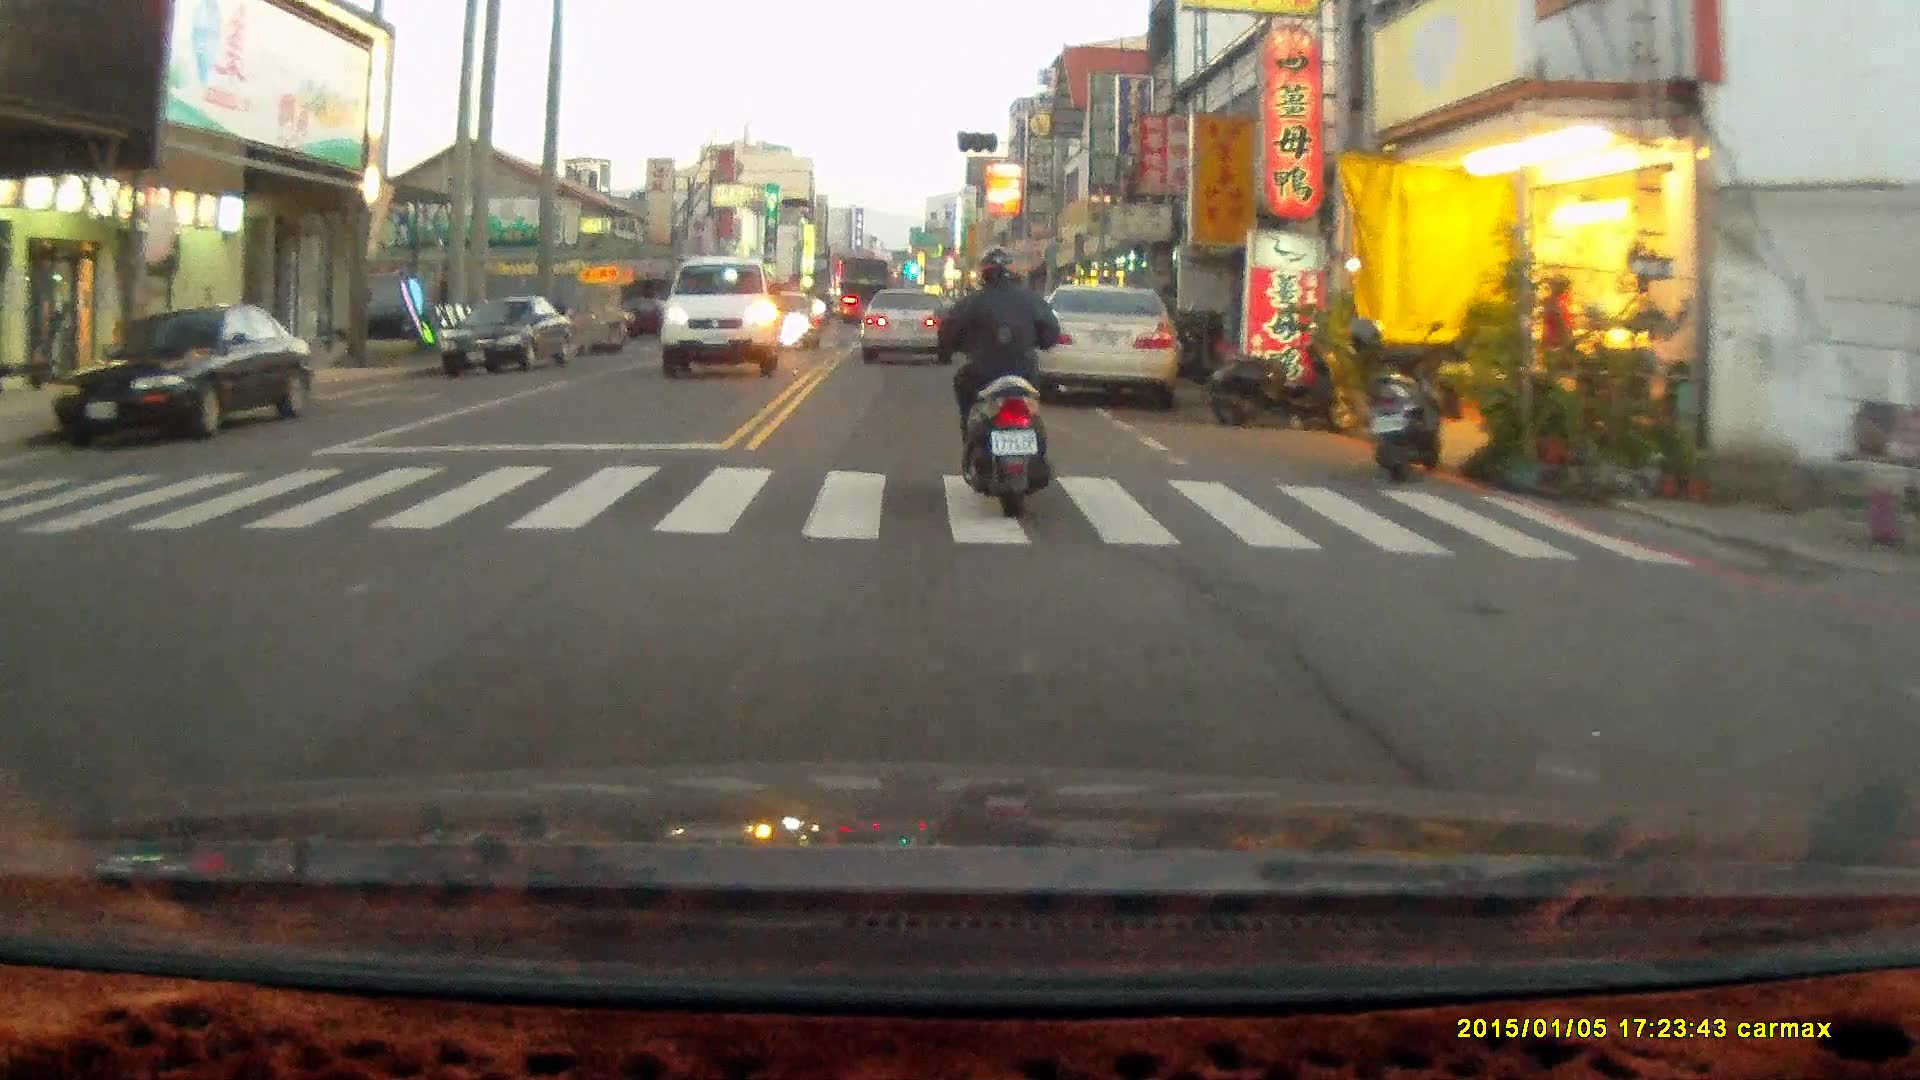pedestrian: (1543, 274, 1581, 404)
rider: (933, 242, 1060, 514)
vehicle: (63, 308, 313, 450), (1033, 282, 1183, 410), (661, 259, 784, 385), (440, 297, 576, 382), (857, 286, 955, 363)
